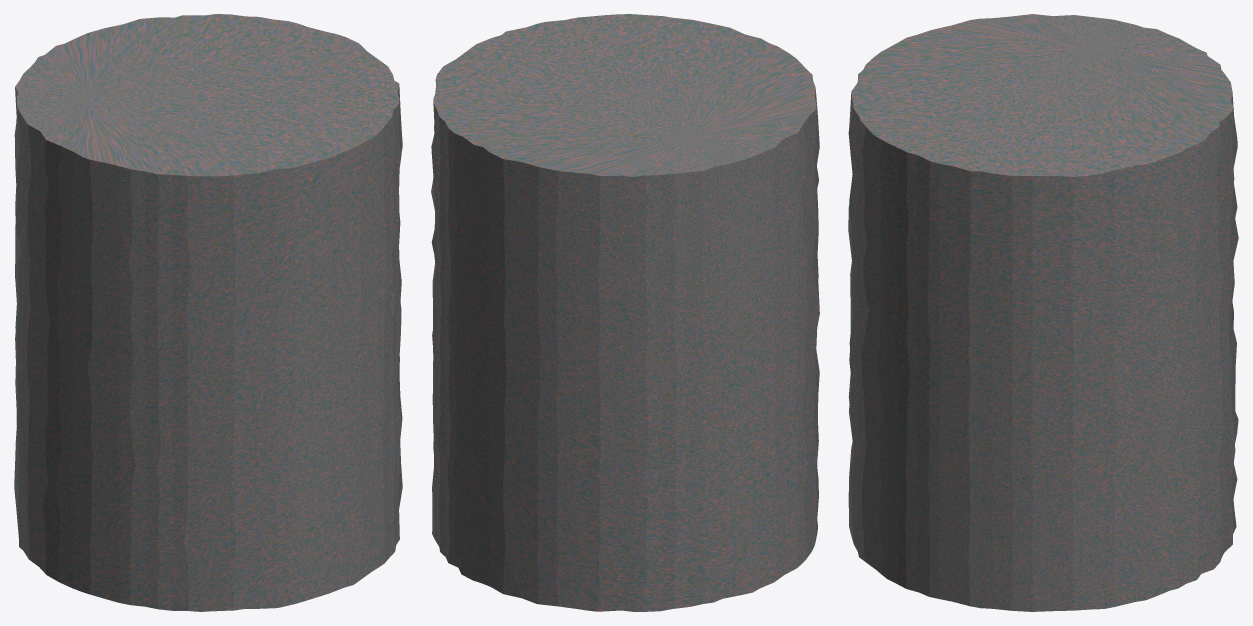
File: barrel_1.dae
3 renders of one model, left to right at view 1: azimuth 30°, elevation 25°; view 2: azimuth 150°, elevation 25°; view 3: azimuth 270°, elevation 25°, orthographic.
Parts seen in each view (by area): view 1: Cylinder; view 2: Cylinder; view 3: Cylinder.
Part boxes in pixels (x1,y1,x2,y2): Cylinder: (14,14,402,611); Cylinder: (431,14,819,611); Cylinder: (848,14,1238,611).
Bounding box in the file's own units: 0.817 × 0.8127 × 1.
Materials: 1 (1 with a texture image).
